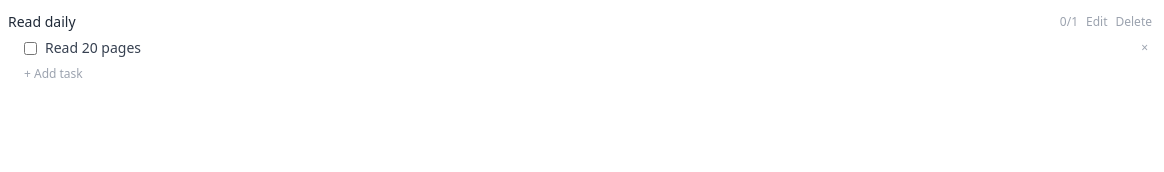
Test: GoalRow › clicking "+ Add task" shows a task input form
The image size is (1164, 172).
Click the button "+ Add task" at [53, 74], box [24,66,83,82]
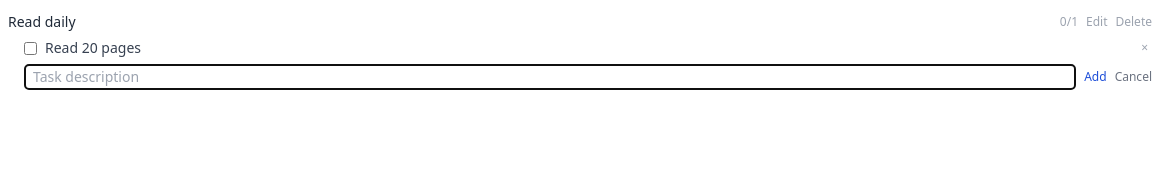
Now the field with placeholder "Task description" is shown, box [24,64,1076,90]
